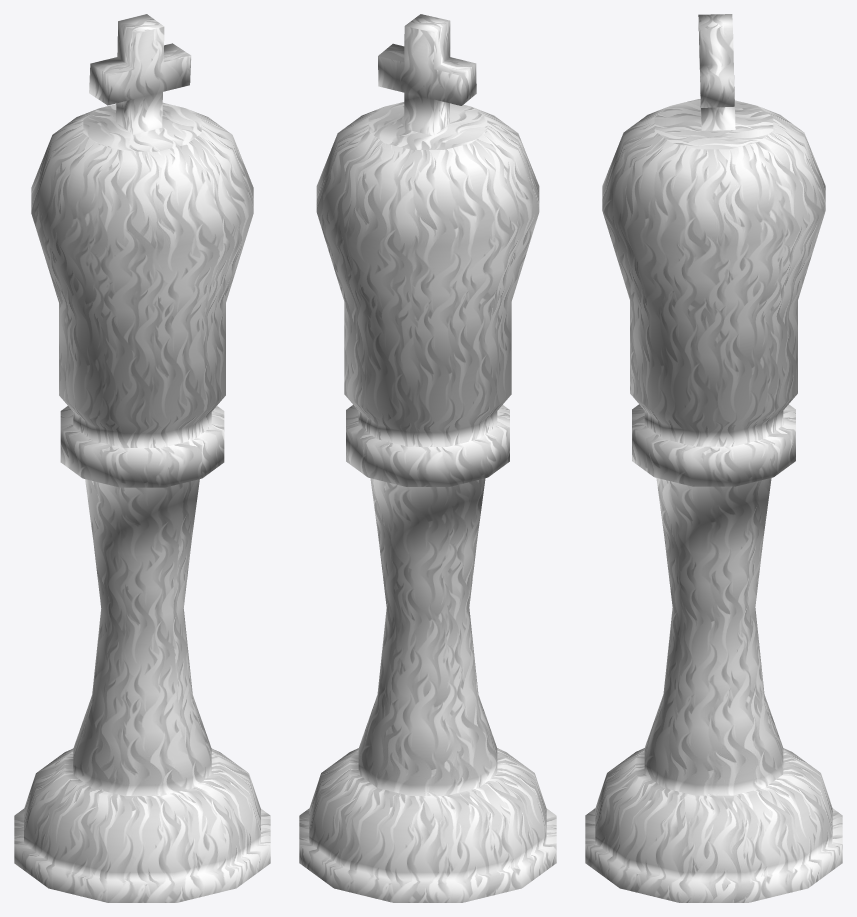
The model's file is King.glb.
3 views of the same model, side by side, from view 1: azimuth 30°, elevation 25°; view 2: azimuth 150°, elevation 25°; view 3: azimuth 270°, elevation 25° (orthographic).
Visible parts, largest first — view 1: King; view 2: King; view 3: King.
Part boxes in pixels (<box>): King: <box>14,14,270,902</box>; King: <box>299,14,556,902</box>; King: <box>585,14,842,902</box>.
Bounding box in the file's own units: 0.1256 × 0.4453 × 0.1256.
1 material, 1 textured.
